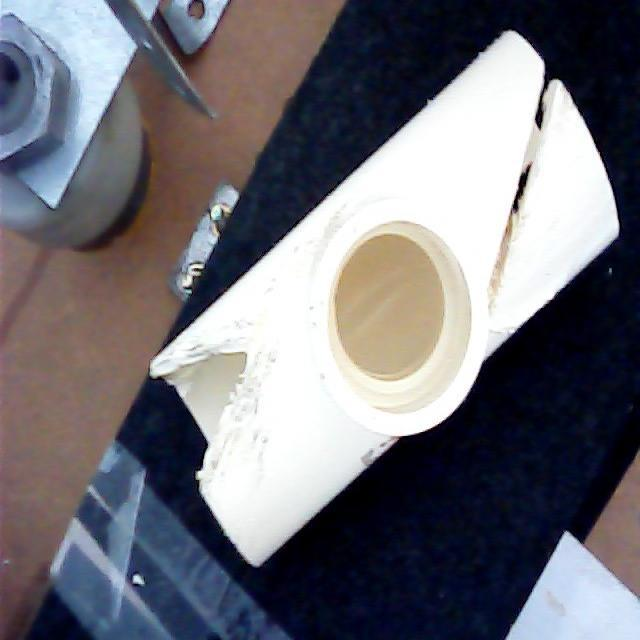Defective: (154, 343, 297, 510), (481, 38, 560, 330)
T Joint: (151, 31, 619, 567)
